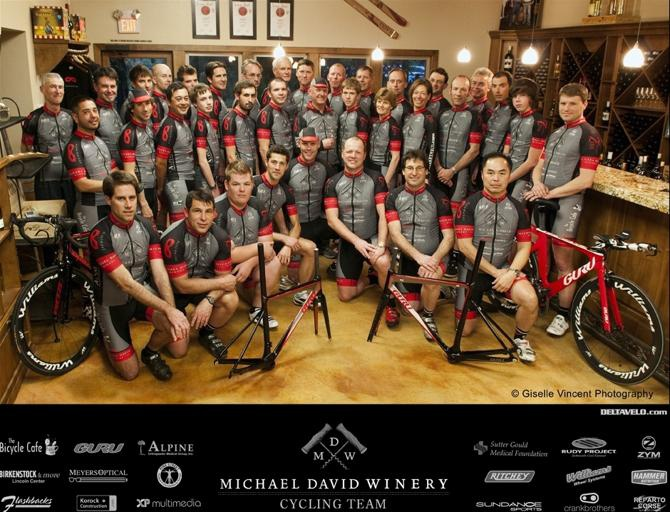non-vehicle: (515, 189, 665, 388), (12, 210, 173, 380)
